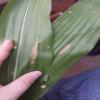Corn leaf blight: (51, 1, 99, 70), (13, 0, 52, 70)
